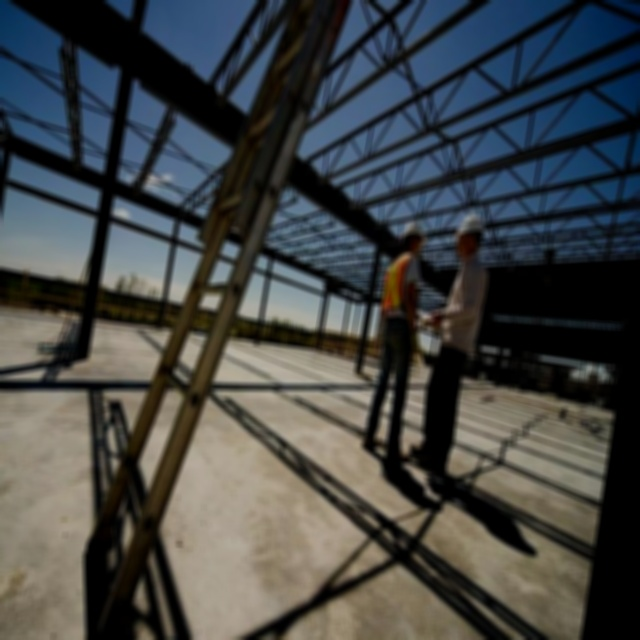Con_Casco: (456, 210, 484, 254), (401, 219, 430, 254)
Con_Chaleco: (379, 252, 420, 322)
Sin_Chaleco: (441, 256, 490, 344)
